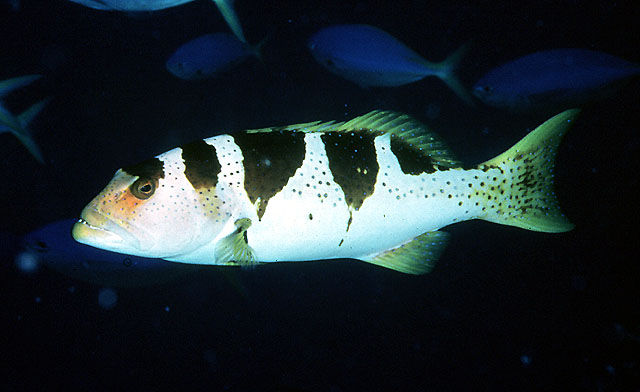fish: (71, 108, 580, 276)
